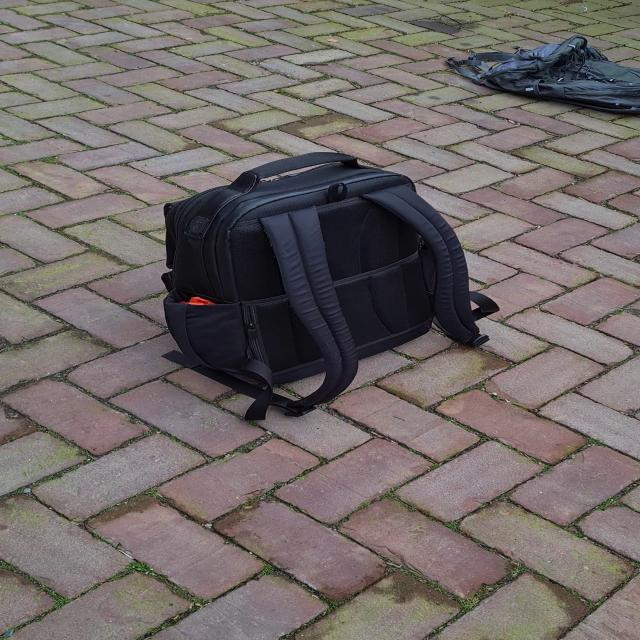backpack: (168, 150, 497, 430)
